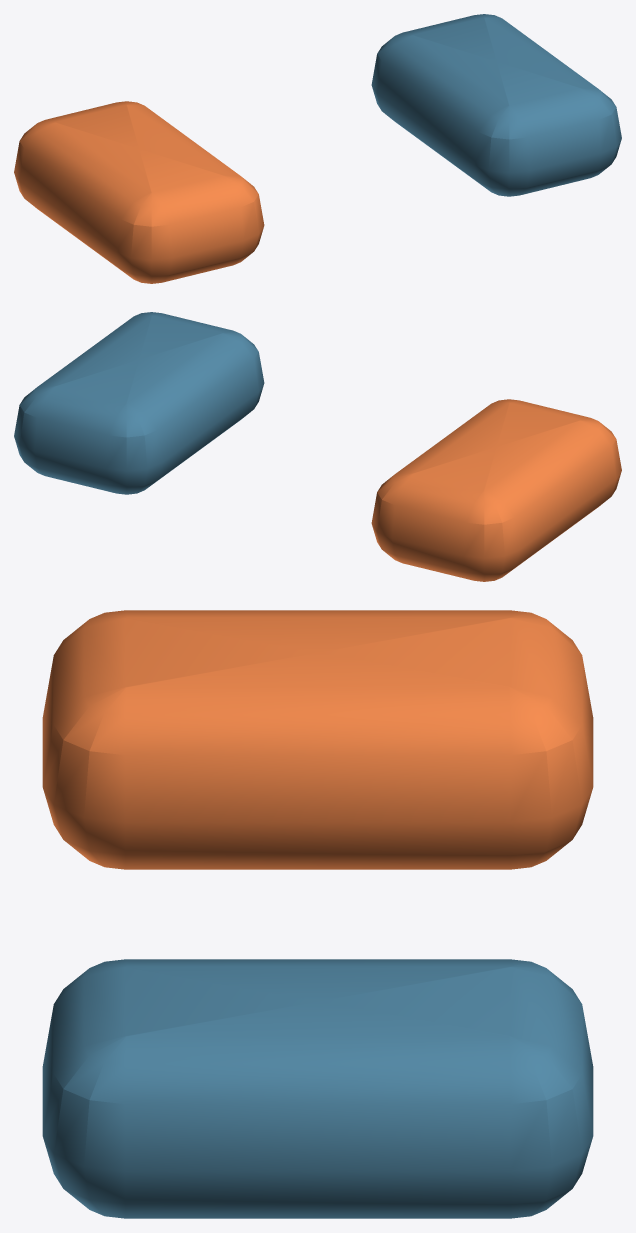
The model's file is powerboat-racing-and-launch-ramp-navigation-light-pair-a82d4efa__22304.glb.
3 views of the same model, one above another, from view 1: azimuth 30°, elevation 25°; view 2: azimuth 150°, elevation 25°; view 3: azimuth 270°, elevation 25° (orthographic). The views are drawn at different scales.
Visible parts, largest first — view 1: navigation-light-pair; view 2: navigation-light-pair; view 3: navigation-light-pair.
Part boxes in pixels (x1,y1,x2,y2): navigation-light-pair: (14, 14, 621, 283); navigation-light-pair: (14, 312, 621, 581); navigation-light-pair: (42, 610, 593, 1218).
Size of the model in its own units: 0.42 by 0.07 by 0.2.
